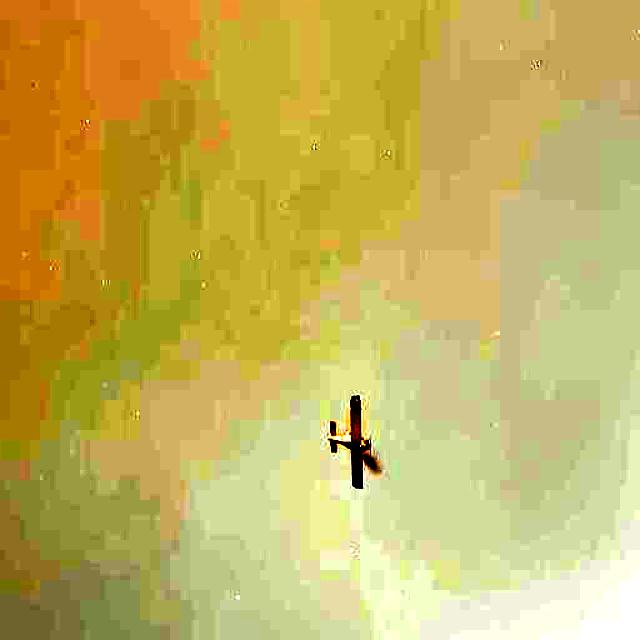drone: (311, 386, 395, 485)
